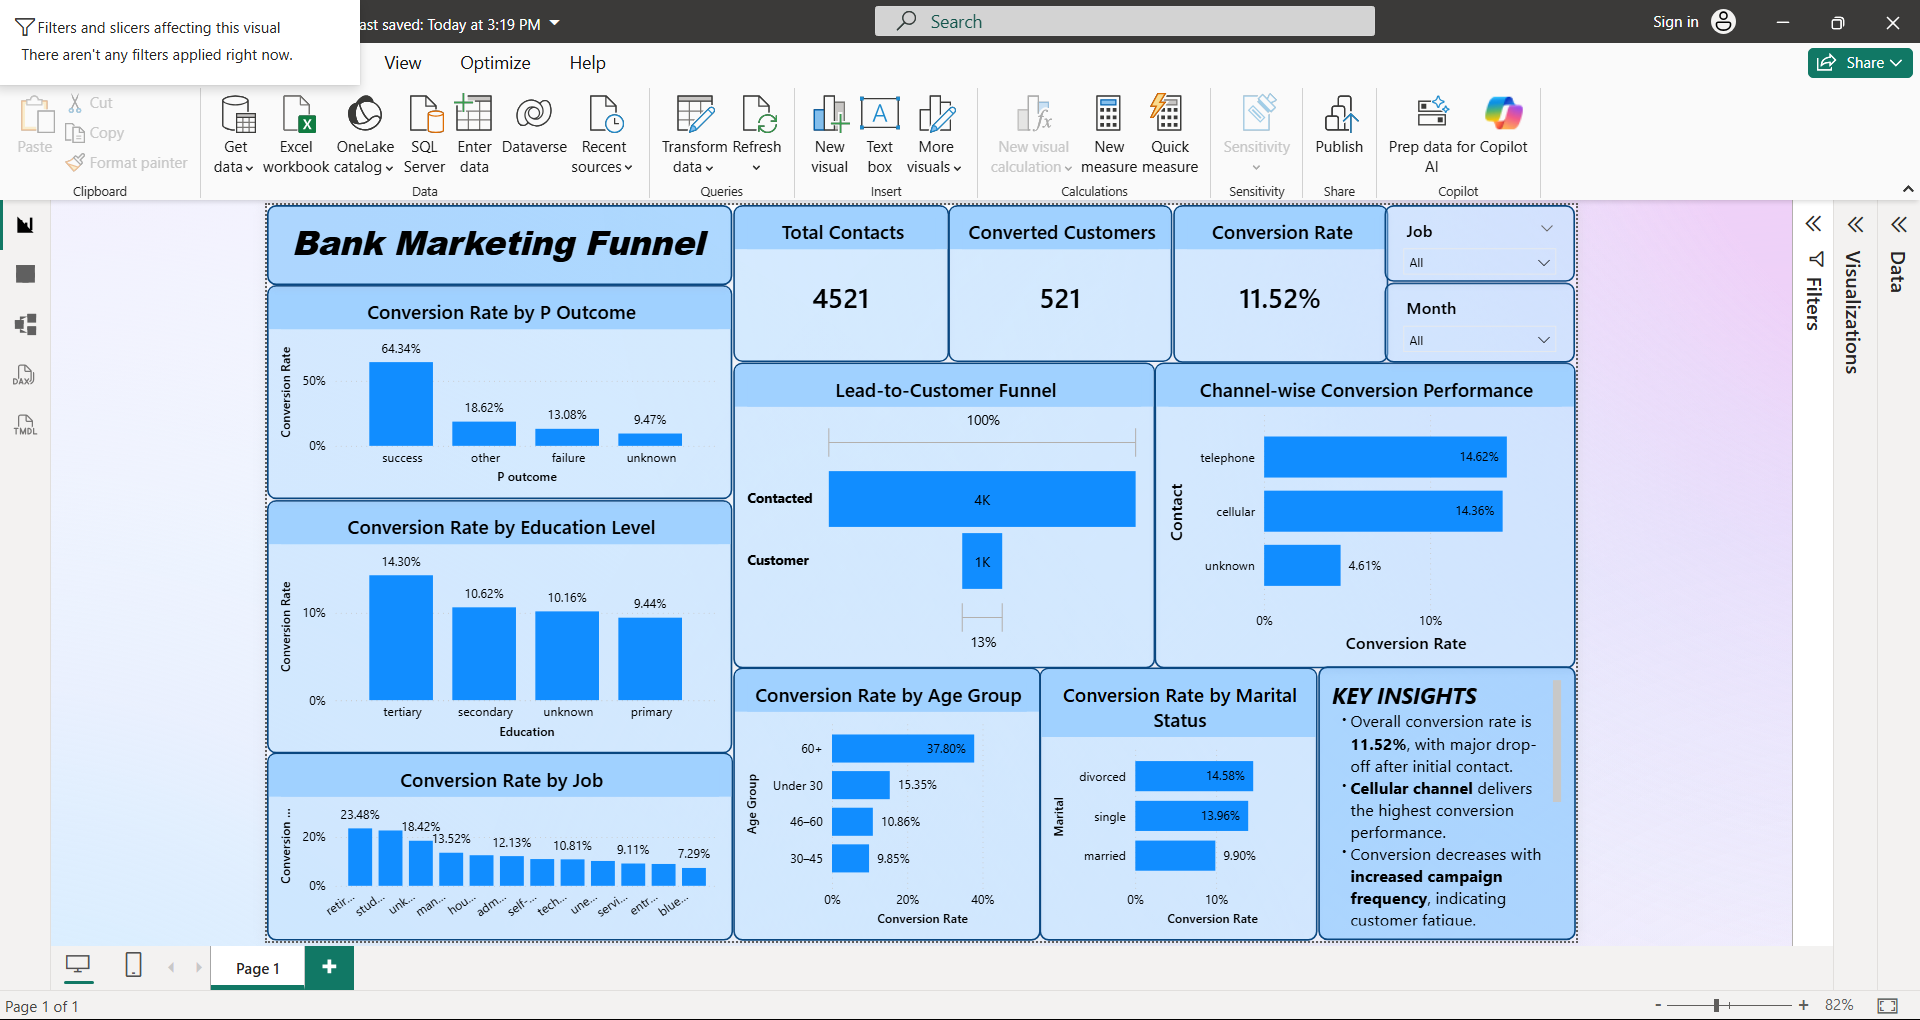

The page's visual inventory and layout, read from the dashboard file:
{"tool":"powerbi","page":{"name":"Page 1","canvas":[1280,720],"ordinal":0},"visuals":[{"type":"card","title":"Total Contacts","fields":{"Values":["Cleaned_Bank_data.Total Contacts"]},"box":[455.6,0,211.3,153.7],"z":0},{"type":"card","title":"Converted Customers","fields":{"Values":["Cleaned_Bank_data.Total Customers"]},"box":[666.9,0,219.6,153.7],"z":1000},{"type":"card","title":"Conversion Rate","fields":{"Values":["Cleaned_Bank_data.Conversion Rate"]},"box":[886.6,0,210.3,154.1],"z":2000},{"type":"funnel","title":"Lead-to-Customer Funnel","fields":{"Y":["Cleaned_Bank_data.Funnel Count"],"Category":["Cleaned_Bank_data.Funnel Stage"]},"box":[455.6,153.7,413,299.1],"z":3000},{"type":"clusteredBarChart","title":"Channel-wise Conversion Performance","fields":{"Category":["Cleaned_Bank_data.Contact"],"Y":["Cleaned_Bank_data.Conversion Rate"]},"box":[868.6,153.7,411.7,299.1],"z":4000},{"type":"slicer","fields":{"Values":["Cleaned_Bank_data.Month"]},"box":[1093.7,75.5,186.6,78.2],"z":5000},{"type":"slicer","fields":{"Values":["Cleaned_Bank_data.Job"]},"box":[1093.7,0,186.6,75.5],"z":6000},{"type":"clusteredBarChart","title":"Conversion Rate by Marital Status","fields":{"Category":["Cleaned_Bank_data.Marital"],"Y":["Cleaned_Bank_data.Conversion Rate"]},"box":[756.1,452.8,271.7,267.6],"z":7000},{"type":"clusteredColumnChart","title":"Conversion Rate by Education Level","fields":{"Category":["Cleaned_Bank_data.Education"],"Y":["Cleaned_Bank_data.Conversion Rate"]},"box":[0,288.2,455.6,248.4],"z":8000},{"type":"clusteredBarChart","fields":{"Category":["Cleaned_Bank_data.Age Group"],"Y":["Cleaned_Bank_data.Conversion Rate"]},"box":[455.6,452.8,300.5,267.6],"z":9000},{"type":"clusteredColumnChart","title":"Conversion Rate by P Outcome","fields":{"Y":["Cleaned_Bank_data.Conversion Rate"],"Category":["Cleaned_Bank_data.P out Come"]},"box":[0,78.2,455.6,209.9],"z":10000},{"type":"textbox","title":"Bank Marketing Funnel","box":[0,0,455.6,78.2],"z":11000},{"type":"clusteredColumnChart","fields":{"Category":["Cleaned_Bank_data.Job"],"Y":["Cleaned_Bank_data.Conversion Rate"]},"box":[0,536,456,184],"z":12000},{"type":"textbox","box":[1028.4,451.2,251.9,267.8],"z":13000}]}

Visuals, with their boxes on the page's 1280x720 design canvas (x1, y1, x2, y2). These are canvas units, not pixel positions in the 1920x1020 screenshot, which may show the page scaled, cropped or inside an application window:
"Total Contacts" card: <box>456,0,667,154</box>
"Converted Customers" card: <box>667,0,886,154</box>
"Conversion Rate" card: <box>887,0,1097,154</box>
"Lead-to-Customer Funnel" funnel: <box>456,154,869,453</box>
"Channel-wise Conversion Performance" clusteredBarChart: <box>869,154,1280,453</box>
slicer - Cleaned_Bank_data.Month: <box>1094,76,1280,154</box>
slicer - Cleaned_Bank_data.Job: <box>1094,0,1280,76</box>
"Conversion Rate by Marital Status" clusteredBarChart: <box>756,453,1028,720</box>
"Conversion Rate by Education Level" clusteredColumnChart: <box>0,288,456,537</box>
clusteredBarChart - Cleaned_Bank_data.Age Group x Cleaned_Bank_data.Conversion Rate: <box>456,453,756,720</box>
"Conversion Rate by P Outcome" clusteredColumnChart: <box>0,78,456,288</box>
"Bank Marketing Funnel" textbox: <box>0,0,456,78</box>
clusteredColumnChart - Cleaned_Bank_data.Job x Cleaned_Bank_data.Conversion Rate: <box>0,536,456,720</box>
textbox: <box>1028,451,1280,719</box>
